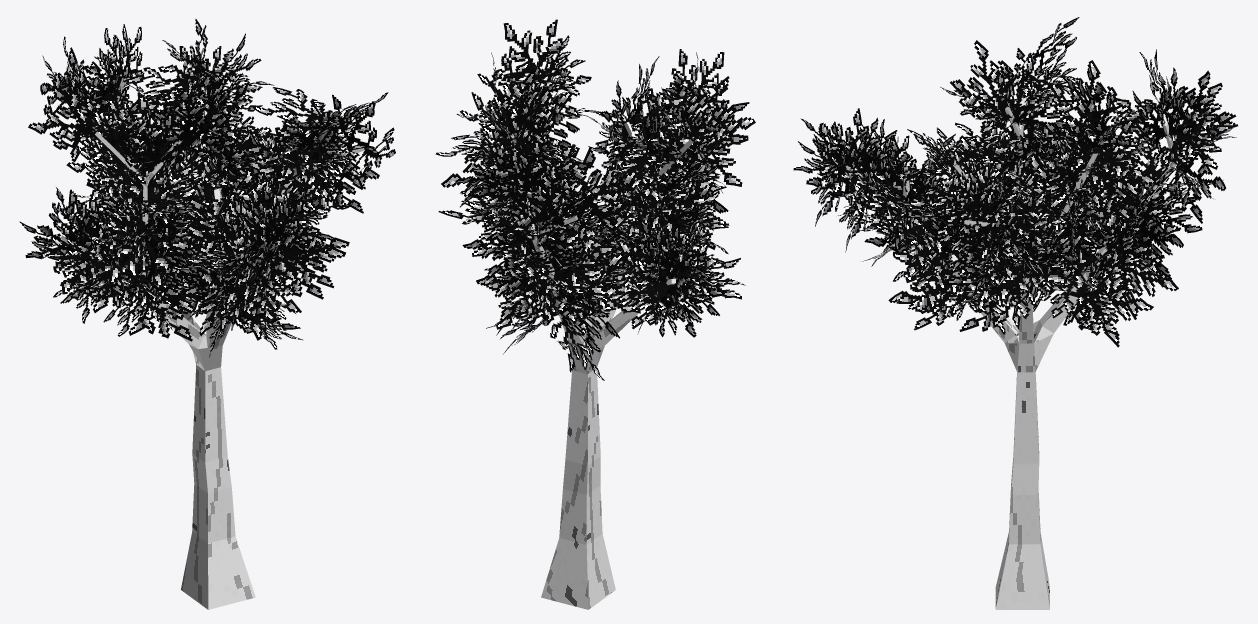
The model's file is arbre_jove.glb.
The picture shows the model from 3 angles, left to right: view 1: azimuth 30°, elevation 25°; view 2: azimuth 150°, elevation 25°; view 3: azimuth 270°, elevation 25°; orthographic projection.
Parts seen in each view (by area): view 1: Fulles (×55), Tronc; view 2: Fulles (×64), Tronc; view 3: Fulles (×53), Tronc.
Part boxes in pixels (left/top/right/bottom): Fulles (×55): left=19, top=19, right=395, bottom=341; Tronc: left=60, top=73, right=364, bottom=609; Fulles (×64): left=435, top=19, right=755, bottom=380; Tronc: left=485, top=83, right=697, bottom=609; Fulles (×53): left=800, top=17, right=1236, bottom=347; Tronc: left=845, top=60, right=1176, bottom=609.
Bounding box in the file's own units: 1.74 × 2.95 × 2.23.
Materials: 2 (2 with a texture image).
